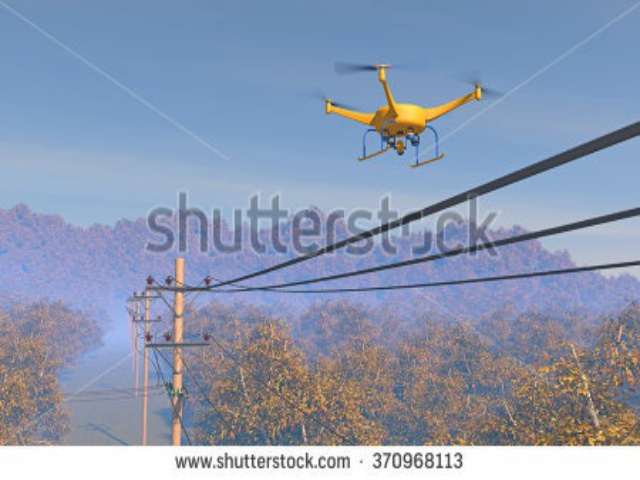drone: (304, 52, 506, 178)
